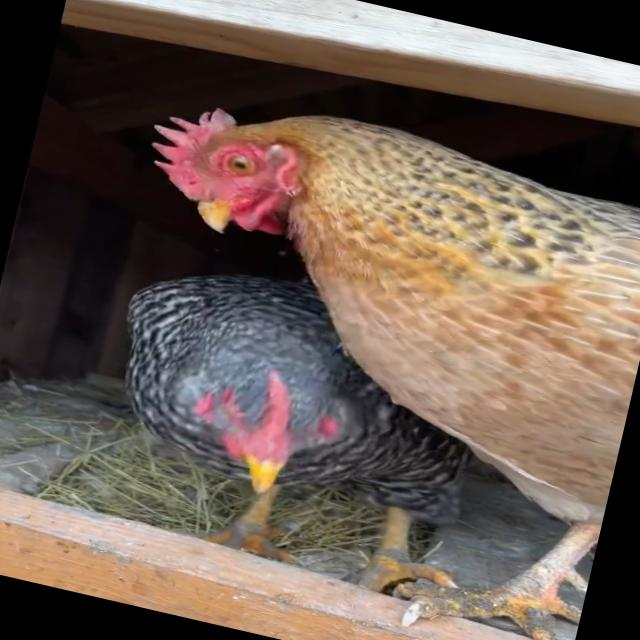pecking: (26, 19, 640, 640)
